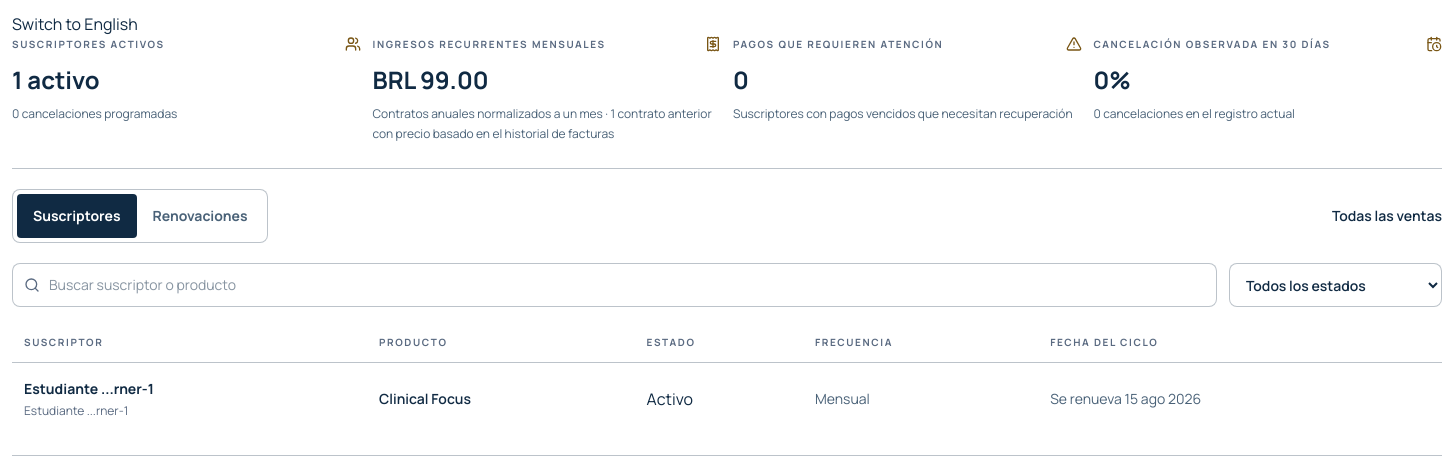
Test case: jornada de assinaturas no idioma da pessoa › usa a máscara localizada e preserva ID e título históricos literais
This screenshot has width=1452, height=473.
Click the tab "Renovaciones" at (200, 216), box [136,194,263,238]
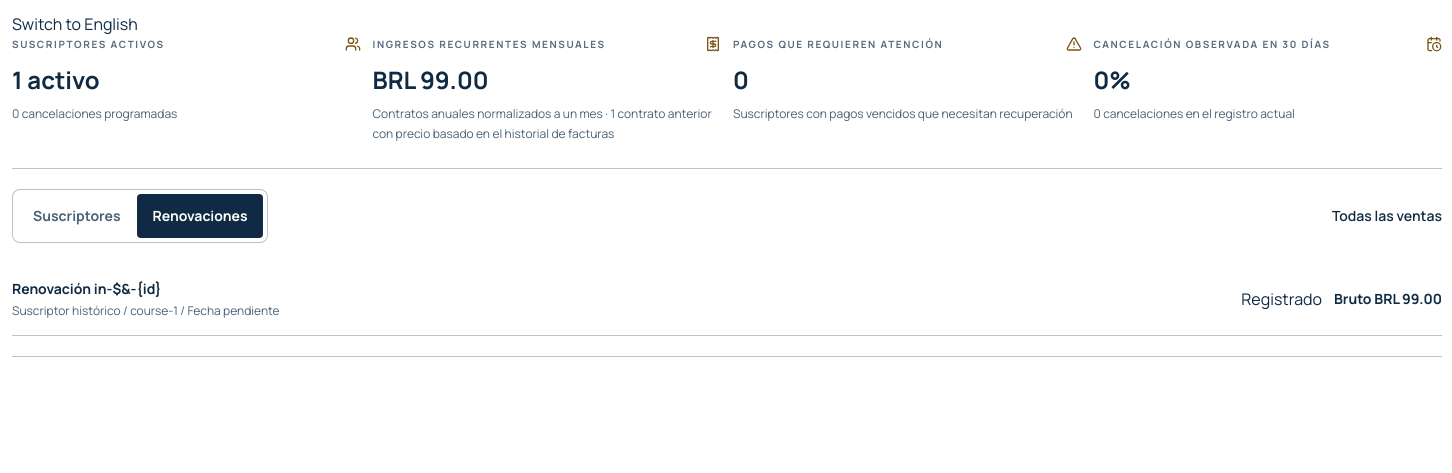
Expected: the text "Renovación in-$&-{id}" is shown, [12,279,162,298]
Expected: the text "Suscriptor histórico / course-1 / Fecha pendiente" is shown, [12,303,280,319]
